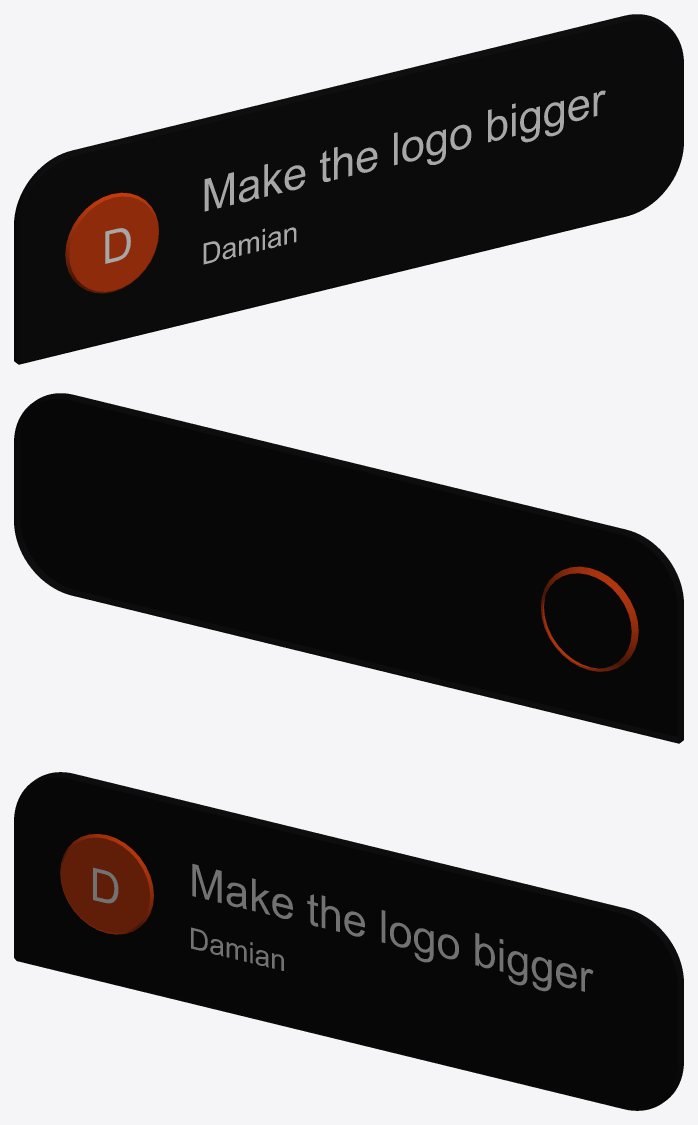
Rendered from comment-transformed.glb.
3 renders of one model, top to bottom at view 1: azimuth 30°, elevation 25°; view 2: azimuth 150°, elevation 25°; view 3: azimuth 330°, elevation 25°, orthographic.
Visible parts, largest first — view 1: Plane, Cylinder, Damian, paulina.003; view 2: Plane, Cylinder; view 3: Plane, Cylinder, Damian, paulina.003.
Part boxes in pixels (left/top/right/bottom): Plane: left=14, top=14, right=683, bottom=364; Cylinder: left=65, top=192, right=158, bottom=293; Damian: left=204, top=90, right=605, bottom=211; paulina.003: left=203, top=227, right=296, bottom=264; Plane: left=14, top=393, right=683, bottom=743; Cylinder: left=541, top=566, right=638, bottom=671; Plane: left=14, top=772, right=683, bottom=1110; Cylinder: left=60, top=834, right=153, bottom=934; Damian: left=192, top=864, right=593, bottom=991; paulina.003: left=191, top=927, right=283, bottom=970.
Size of the model in its own units: 0.6562 by 0.1871 by 0.0149.
